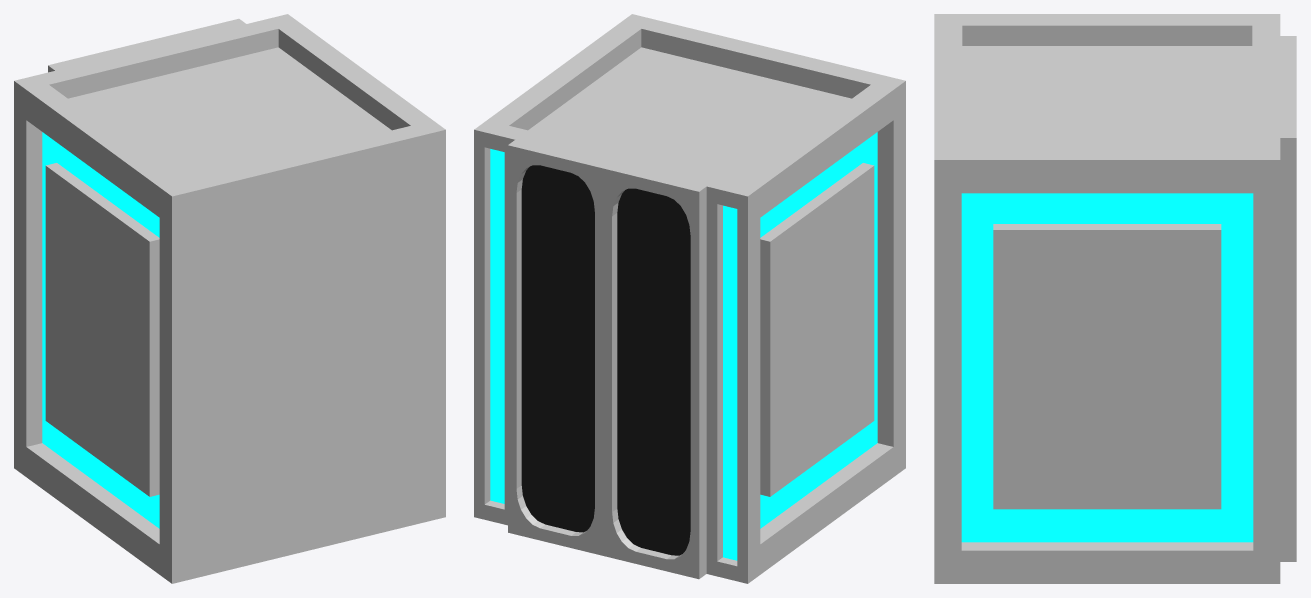
File: Active_Lift.fbx
3 renders of one model, left to right at view 1: azimuth 30°, elevation 25°; view 2: azimuth 150°, elevation 25°; view 3: azimuth 270°, elevation 25°, orthographic. The views are drawn at different scales.
Parts seen in each view (by area): view 1: Lift Acive; view 2: Lift Acive; view 3: Lift Acive.
Boxes of the visible parts, <box> form: Lift Acive: <box>14,14,445,583</box>; Lift Acive: <box>474,14,905,583</box>; Lift Acive: <box>934,14,1296,583</box>.
Bounding box in the file's own units: 3.8 × 5.14 × 3.98.
